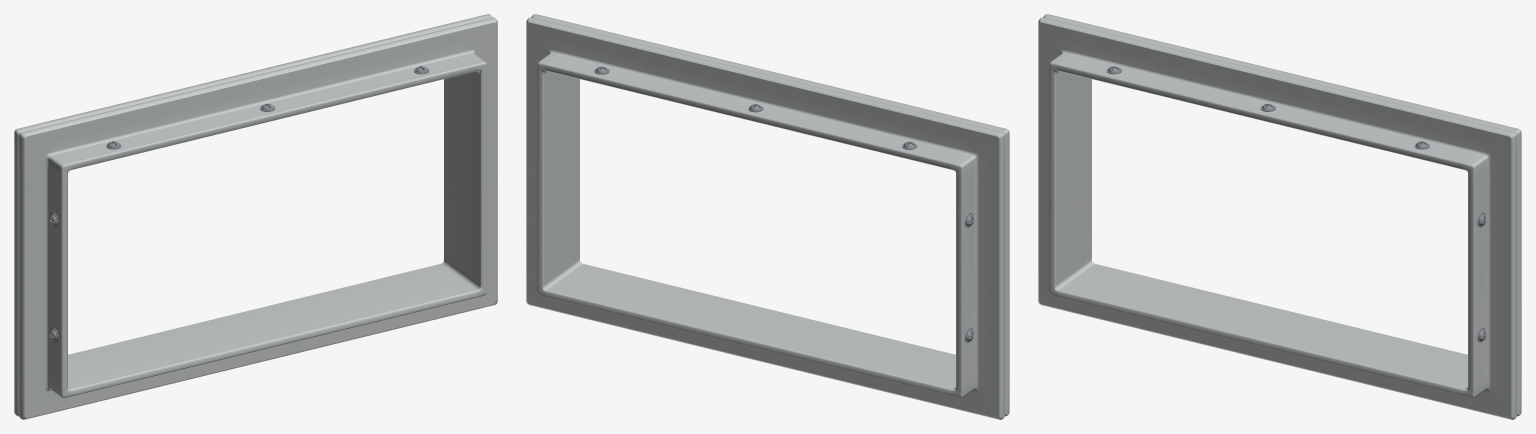
The model's file is flange_thick.gltf.
3 renders of one model, left to right at view 1: azimuth 30°, elevation 25°; view 2: azimuth 150°, elevation 25°; view 3: azimuth 330°, elevation 25°, orthographic.
Visible parts, largest first — view 1: flange_thick; view 2: flange_thick; view 3: flange_thick.
Boxes of the visible parts, x1,y1,x2,y2 form: flange_thick: [14, 14, 497, 419]; flange_thick: [526, 14, 1009, 419]; flange_thick: [1038, 14, 1521, 419].
Bounding box in the file's own units: 0.8751 × 0.5022 × 0.1195.
1 material, 1 textured.
